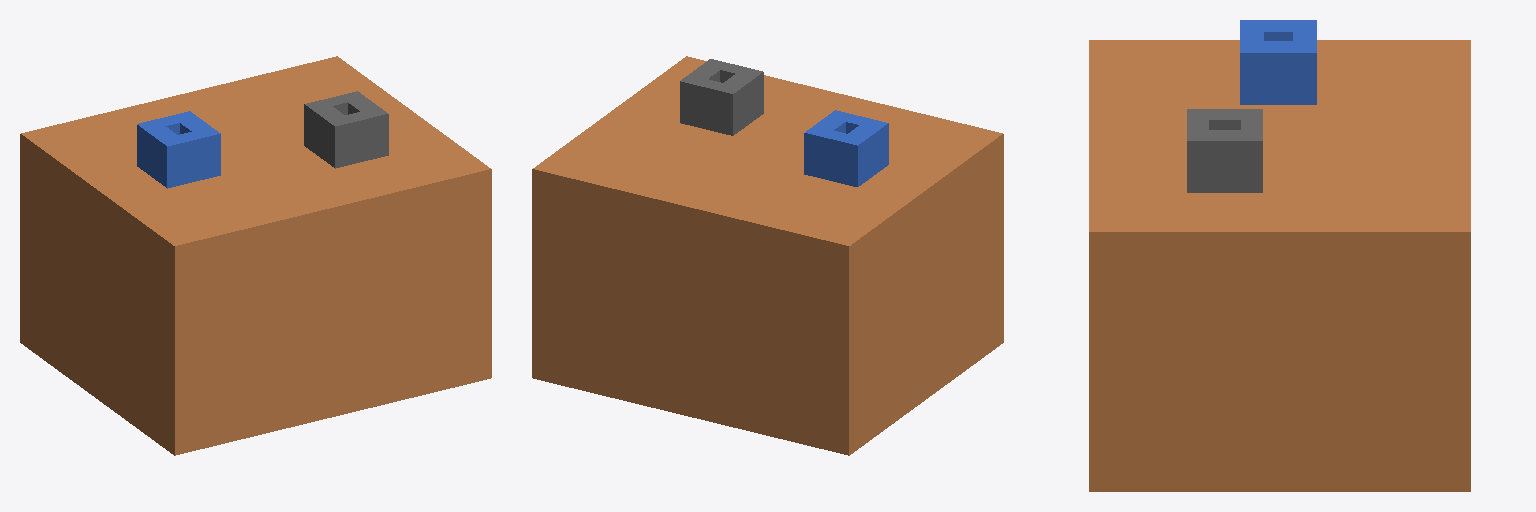
robot.urdf — peg_in_hole_fixtured_scene_0021_peg0009_tol02:
<?xml version="1.0"?>
<robot name="peg_in_hole_fixtured_scene_0021_peg0009_tol02">
  <material name="wood"><color rgba="0.82 0.56 0.35 1.0"/></material>
  <material name="start_fix"><color rgba="0.30 0.50 0.85 1.0"/></material>
  <material name="goal_fix"><color rgba="0.4706 0.4706 0.4706 1.0"/></material>
  <link name="box">
    <visual>
      <origin xyz="0.000000 0.000000 0.000000" rpy="0 0 0"/>
      <geometry><box size="0.475000 0.400000 0.300000"/></geometry>
      <material name="wood"/>
    </visual>
    <collision>
      <origin xyz="0.000000 0.000000 0.000000" rpy="0 0 0"/>
      <geometry><box size="0.475000 0.400000 0.300000"/></geometry>
    </collision>
    <visual>
      <origin xyz="-0.116778 -0.001743 0.155000" rpy="0 0 0"/>
      <geometry><box size="0.080000 0.080000 0.010000"/></geometry>
      <material name="start_fix"/>
    </visual>
    <collision>
      <origin xyz="-0.116778 -0.001743 0.155000" rpy="0 0 0"/>
      <geometry><box size="0.080000 0.080000 0.010000"/></geometry>
    </collision>
    <visual>
      <origin xyz="-0.091528 -0.001743 0.185000" rpy="0 0 0"/>
      <geometry><box size="0.029500 0.080000 0.050000"/></geometry>
      <material name="start_fix"/>
    </visual>
    <collision>
      <origin xyz="-0.091528 -0.001743 0.185000" rpy="0 0 0"/>
      <geometry><box size="0.029500 0.080000 0.050000"/></geometry>
    </collision>
    <visual>
      <origin xyz="-0.142028 -0.001743 0.185000" rpy="0 0 0"/>
      <geometry><box size="0.029500 0.080000 0.050000"/></geometry>
      <material name="start_fix"/>
    </visual>
    <collision>
      <origin xyz="-0.142028 -0.001743 0.185000" rpy="0 0 0"/>
      <geometry><box size="0.029500 0.080000 0.050000"/></geometry>
    </collision>
    <visual>
      <origin xyz="-0.116778 0.026007 0.185000" rpy="0 0 0"/>
      <geometry><box size="0.021000 0.024500 0.050000"/></geometry>
      <material name="start_fix"/>
    </visual>
    <collision>
      <origin xyz="-0.116778 0.026007 0.185000" rpy="0 0 0"/>
      <geometry><box size="0.021000 0.024500 0.050000"/></geometry>
    </collision>
    <visual>
      <origin xyz="-0.116778 -0.029493 0.185000" rpy="0 0 0"/>
      <geometry><box size="0.021000 0.024500 0.050000"/></geometry>
      <material name="start_fix"/>
    </visual>
    <collision>
      <origin xyz="-0.116778 -0.029493 0.185000" rpy="0 0 0"/>
      <geometry><box size="0.021000 0.024500 0.050000"/></geometry>
    </collision>
    <visual>
      <origin xyz="0.102409 -0.057586 0.155000" rpy="0 0 0"/>
      <geometry><box size="0.080000 0.080000 0.010000"/></geometry>
      <material name="goal_fix"/>
    </visual>
    <collision>
      <origin xyz="0.102409 -0.057586 0.155000" rpy="0 0 0"/>
      <geometry><box size="0.080000 0.080000 0.010000"/></geometry>
    </collision>
    <visual>
      <origin xyz="0.128226 -0.057586 0.185000" rpy="0 0 0"/>
      <geometry><box size="0.028366 0.080000 0.050000"/></geometry>
      <material name="goal_fix"/>
    </visual>
    <collision>
      <origin xyz="0.128226 -0.057586 0.185000" rpy="0 0 0"/>
      <geometry><box size="0.028366 0.080000 0.050000"/></geometry>
    </collision>
    <visual>
      <origin xyz="0.076592 -0.057586 0.185000" rpy="0 0 0"/>
      <geometry><box size="0.028366 0.080000 0.050000"/></geometry>
      <material name="goal_fix"/>
    </visual>
    <collision>
      <origin xyz="0.076592 -0.057586 0.185000" rpy="0 0 0"/>
      <geometry><box size="0.028366 0.080000 0.050000"/></geometry>
    </collision>
    <visual>
      <origin xyz="0.102409 -0.029269 0.185000" rpy="0 0 0"/>
      <geometry><box size="0.023268 0.023366 0.050000"/></geometry>
      <material name="goal_fix"/>
    </visual>
    <collision>
      <origin xyz="0.102409 -0.029269 0.185000" rpy="0 0 0"/>
      <geometry><box size="0.023268 0.023366 0.050000"/></geometry>
    </collision>
    <visual>
      <origin xyz="0.102409 -0.085903 0.185000" rpy="0 0 0"/>
      <geometry><box size="0.023268 0.023366 0.050000"/></geometry>
      <material name="goal_fix"/>
    </visual>
    <collision>
      <origin xyz="0.102409 -0.085903 0.185000" rpy="0 0 0"/>
      <geometry><box size="0.023268 0.023366 0.050000"/></geometry>
    </collision>
    <inertial>
      <mass value="500"/>
      <friction value="1.0"/>
      <inertia ixx="1000.0" ixy="0.0" ixz="0.0" iyy="1000.0" iyz="0.0" izz="1000.0"/>
    </inertial>
  </link>
</robot>

--- Facts derived from the render (not from the file) ---
The picture shows the robot from 3 angles, left to right: view 1: azimuth 30°, elevation 25°; view 2: azimuth 150°, elevation 25°; view 3: azimuth 270°, elevation 25°; orthographic projection.
Robot: peg_in_hole_fixtured_scene_0021_peg0009_tol02 — 1 links, 0 joints (none); root link box; default pose: every joint at zero.
Visible links, largest first — view 1: box; view 2: box; view 3: box.
Link boxes in pixels (box(x1,y1,x2,y2)): box: box(20, 56, 491, 455); box: box(532, 56, 1003, 455); box: box(1089, 20, 1470, 491).
Size in the robot's own frame: 0.475 by 0.4 by 0.36 metres.
Geometry: primitives only (box / cylinder / sphere), no mesh files.
